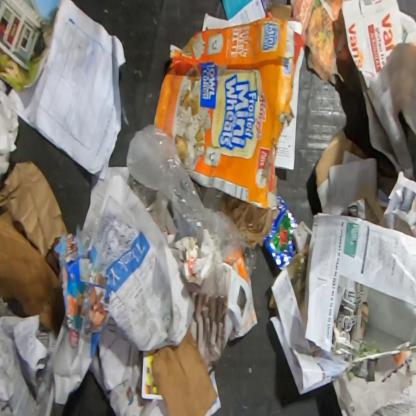cardboard: (153, 10, 308, 212), (0, 211, 64, 332), (151, 322, 217, 415), (53, 225, 109, 334), (314, 129, 370, 190)
metal: (264, 196, 299, 272)
rigid_plastic: (128, 174, 170, 232), (82, 210, 100, 252)
soft_plastic: (127, 124, 260, 284)
